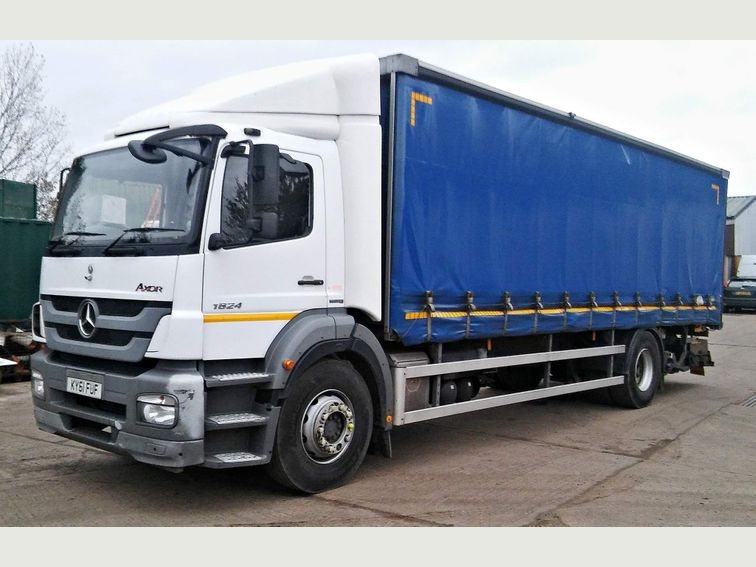Semi: (29, 51, 728, 492)
